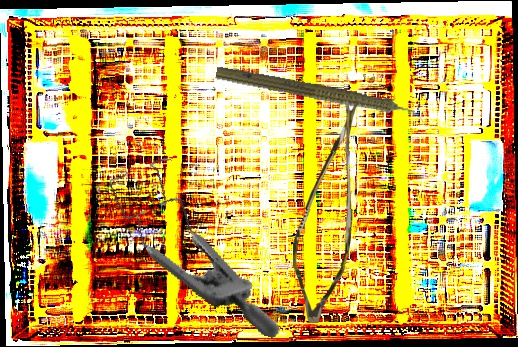Handpiece: (213, 62, 432, 129)
Micro Scissor: (290, 94, 363, 324)
Speculum: (77, 143, 319, 340)
